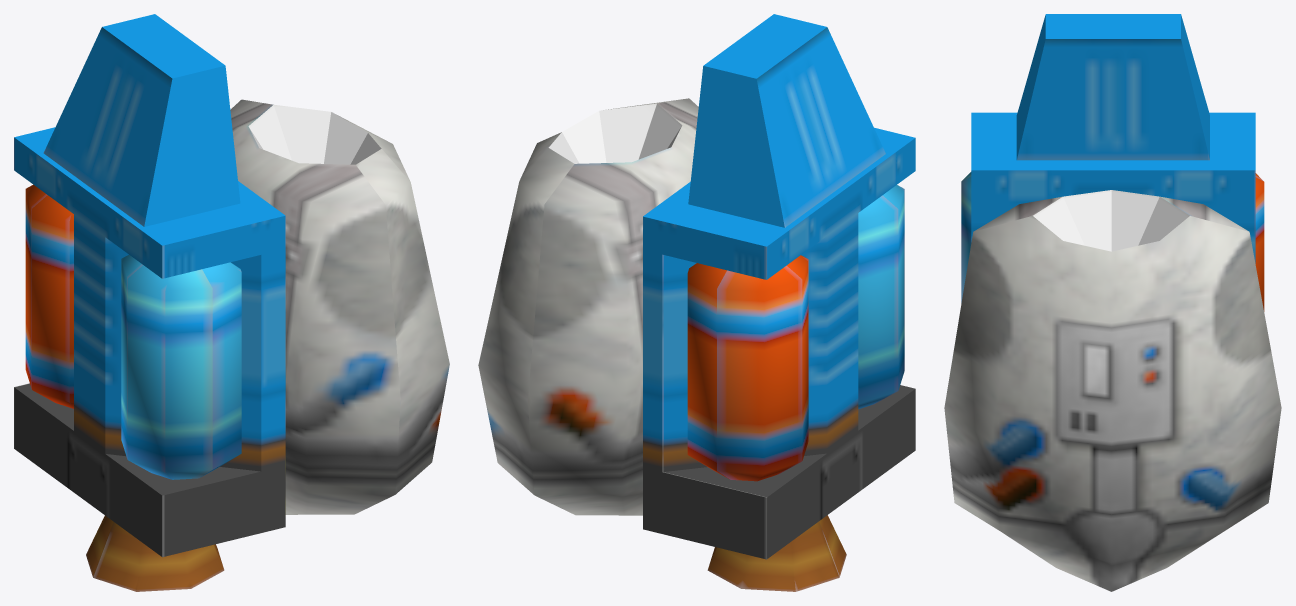
File: human1c.gltf
3 renders of one model, left to right at view 1: azimuth 30°, elevation 25°; view 2: azimuth 150°, elevation 25°; view 3: azimuth 270°, elevation 25°, orthographic. The views are drawn at different scales.
Parts seen in each view (by area): view 1: human1c; view 2: human1c; view 3: human1c.
Boxes of the visible parts, x1,y1,x2,y2 form: human1c: (14,14,449,591); human1c: (478,14,915,591); human1c: (944,14,1281,591).
Size of the model in its own units: 3.25 by 4.73 by 2.94.
